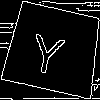Y: (28, 24, 68, 77)
